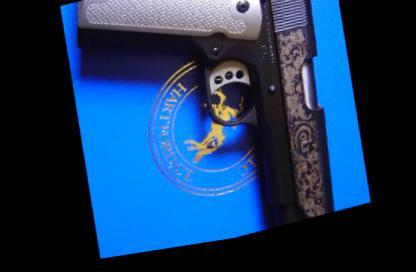pistol: (74, 0, 358, 260)
